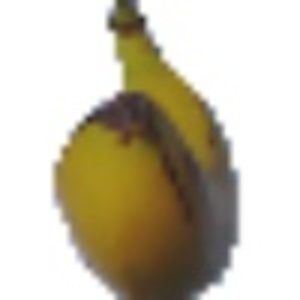banana: (58, 2, 240, 298)
